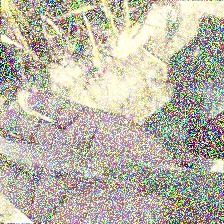Leaf_Blast: (8, 149, 158, 172)
